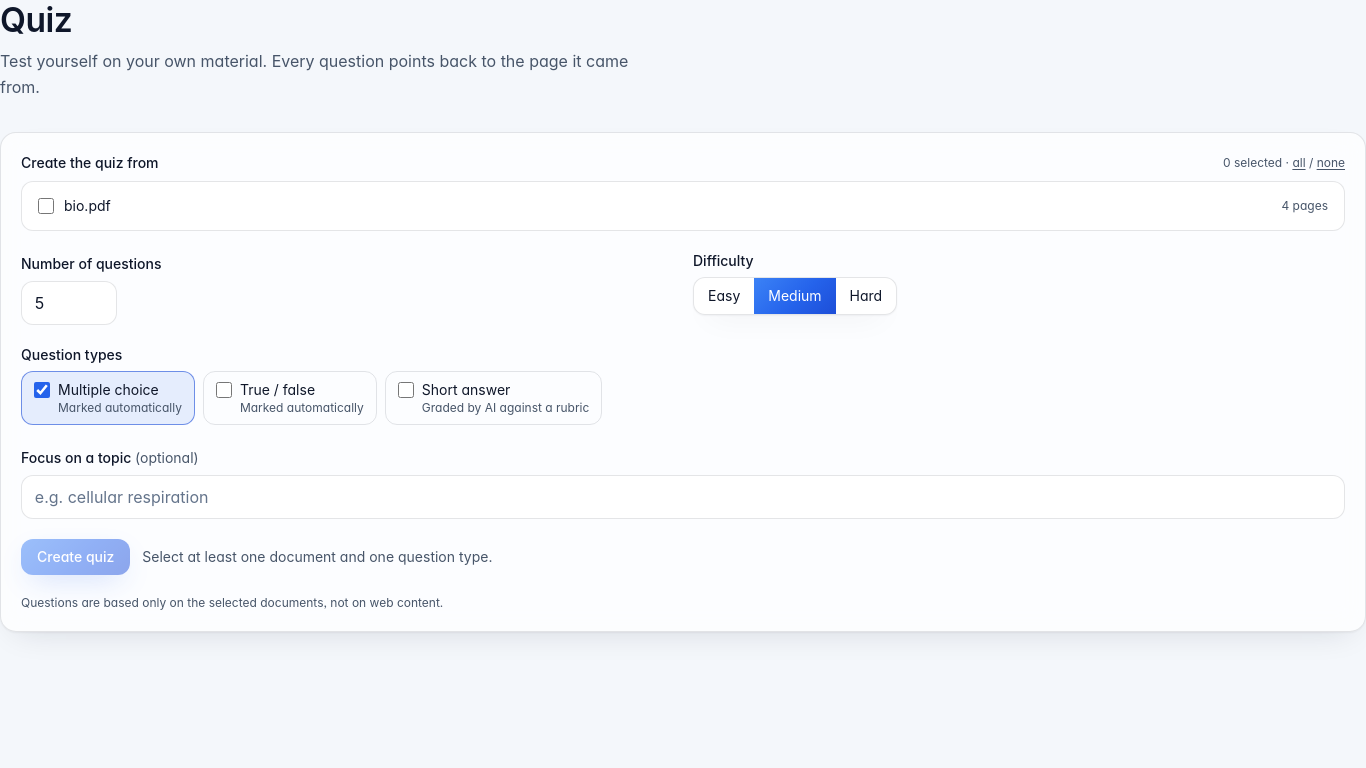
it: Quiz page flow › creates a quiz, takes it and shows the graded result
The image size is (1366, 768).
Expected: the button "Create quiz" is disabled, [21, 538, 130, 574]
Click the checkbox labelled "bio.pdf 4 pages": (46, 206) [38, 198, 54, 214]
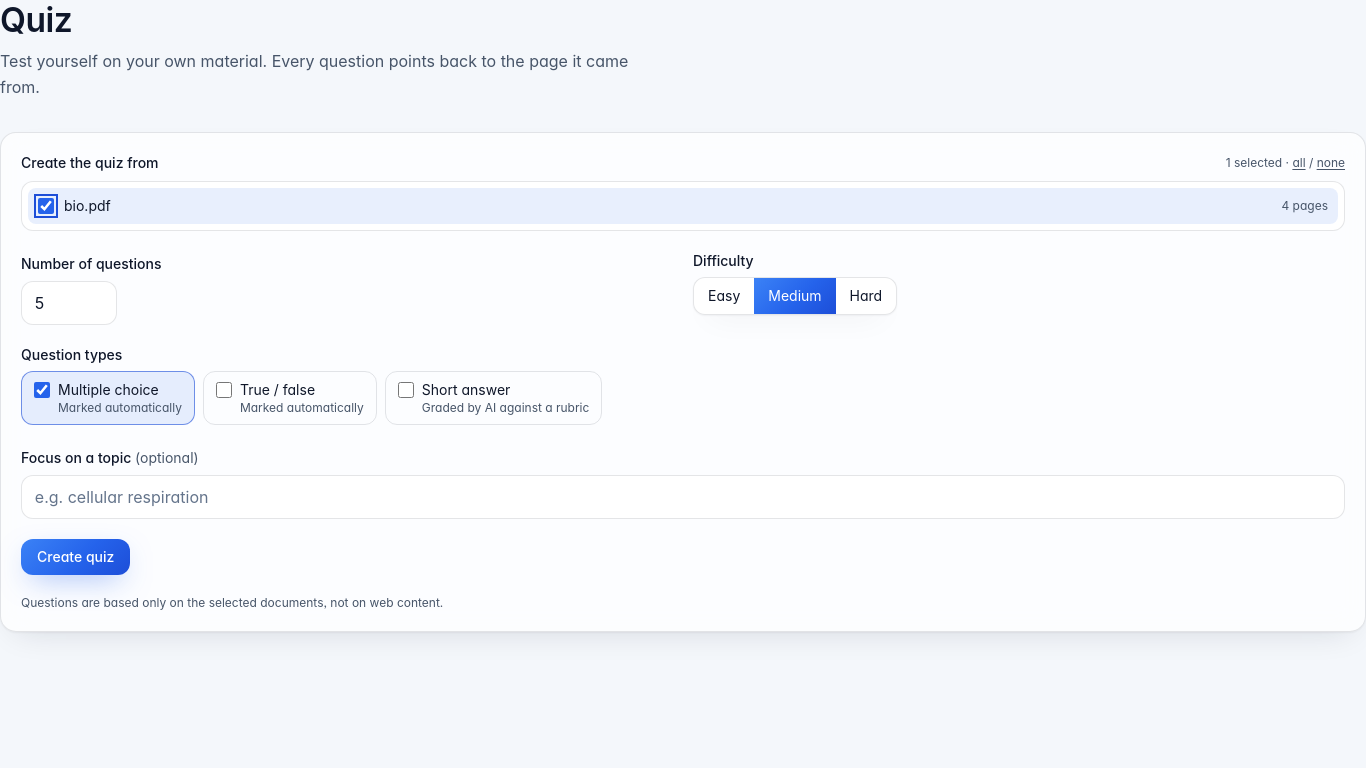
Click the checkbox labelled "True / false Marked automatically": (224, 390) [216, 382, 232, 398]
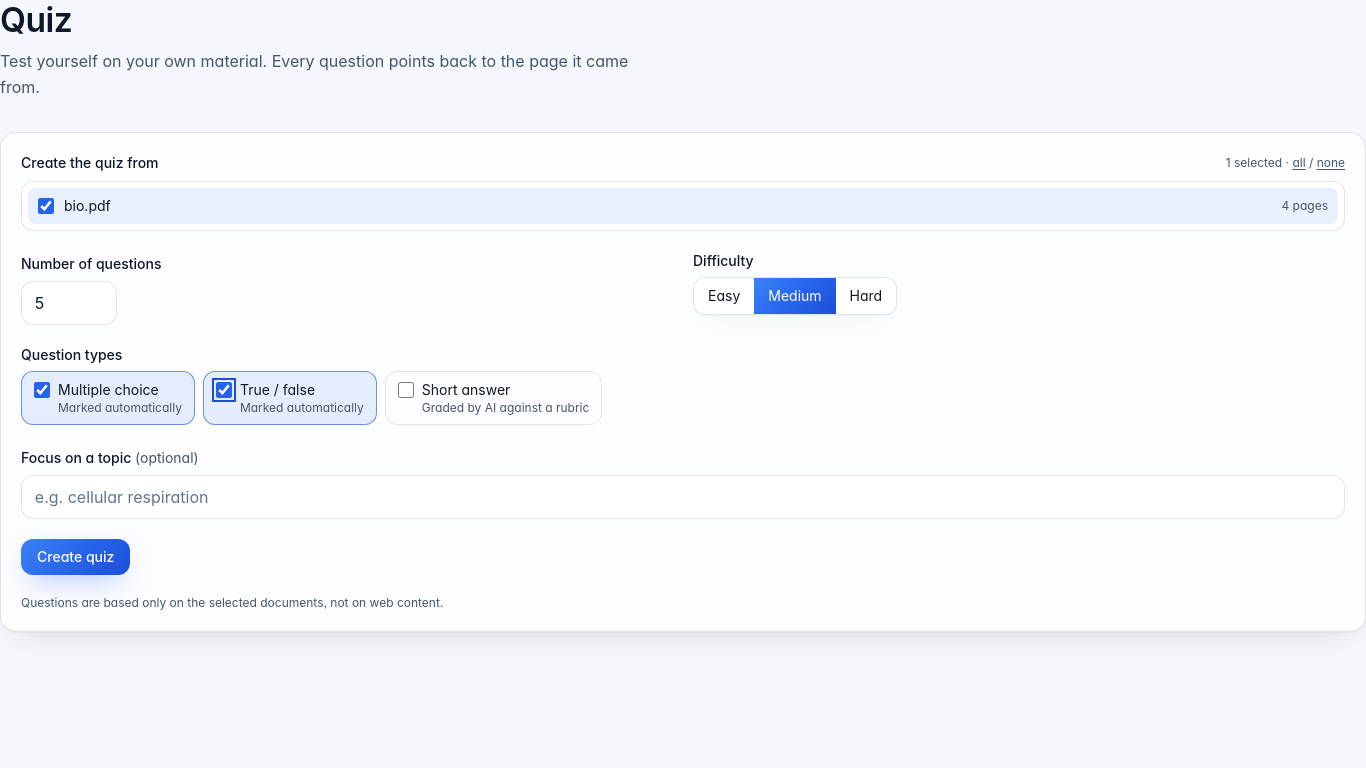
Click the radio button labelled "hard": (866, 296) [850, 287, 882, 304]
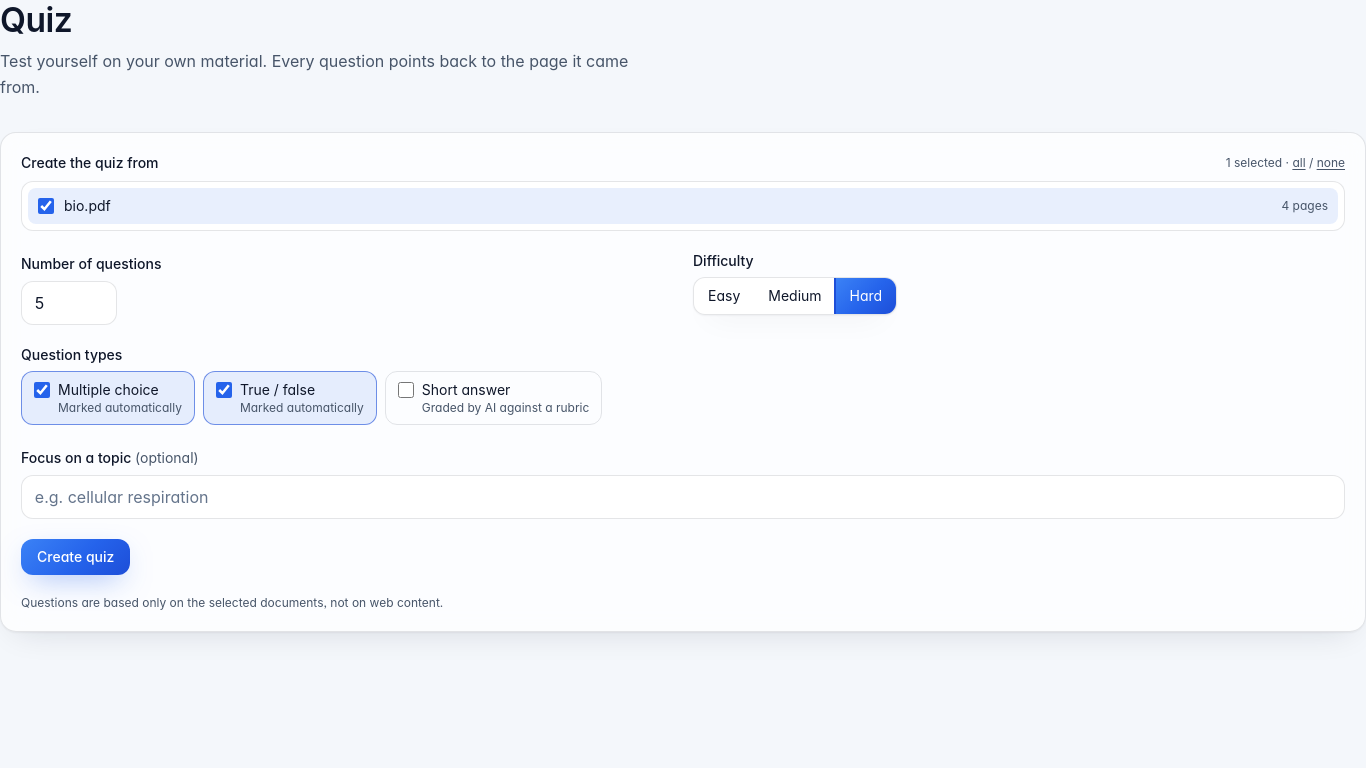
Click the button "Create quiz": (76, 556) [21, 538, 130, 574]
(page scrolled)
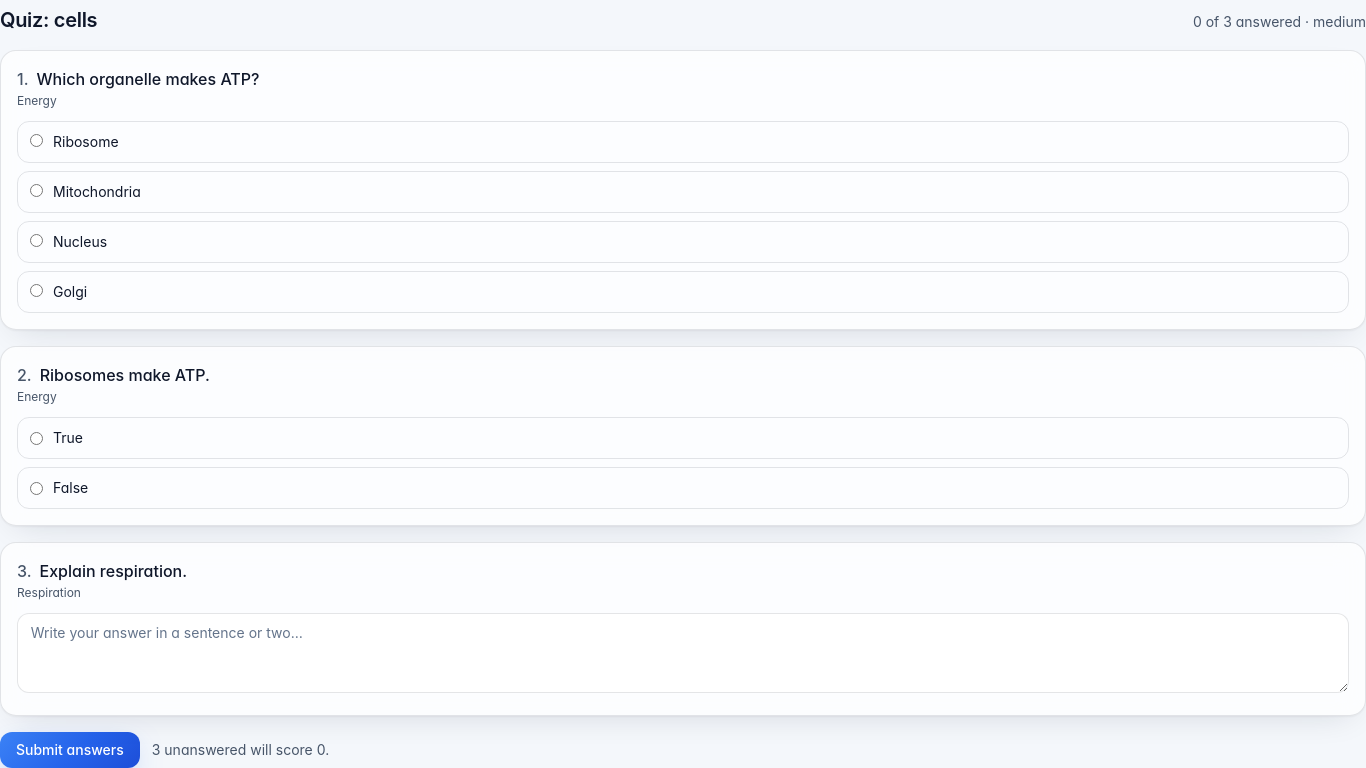
Click the button "Submit answers": (70, 750) [0, 732, 140, 767]
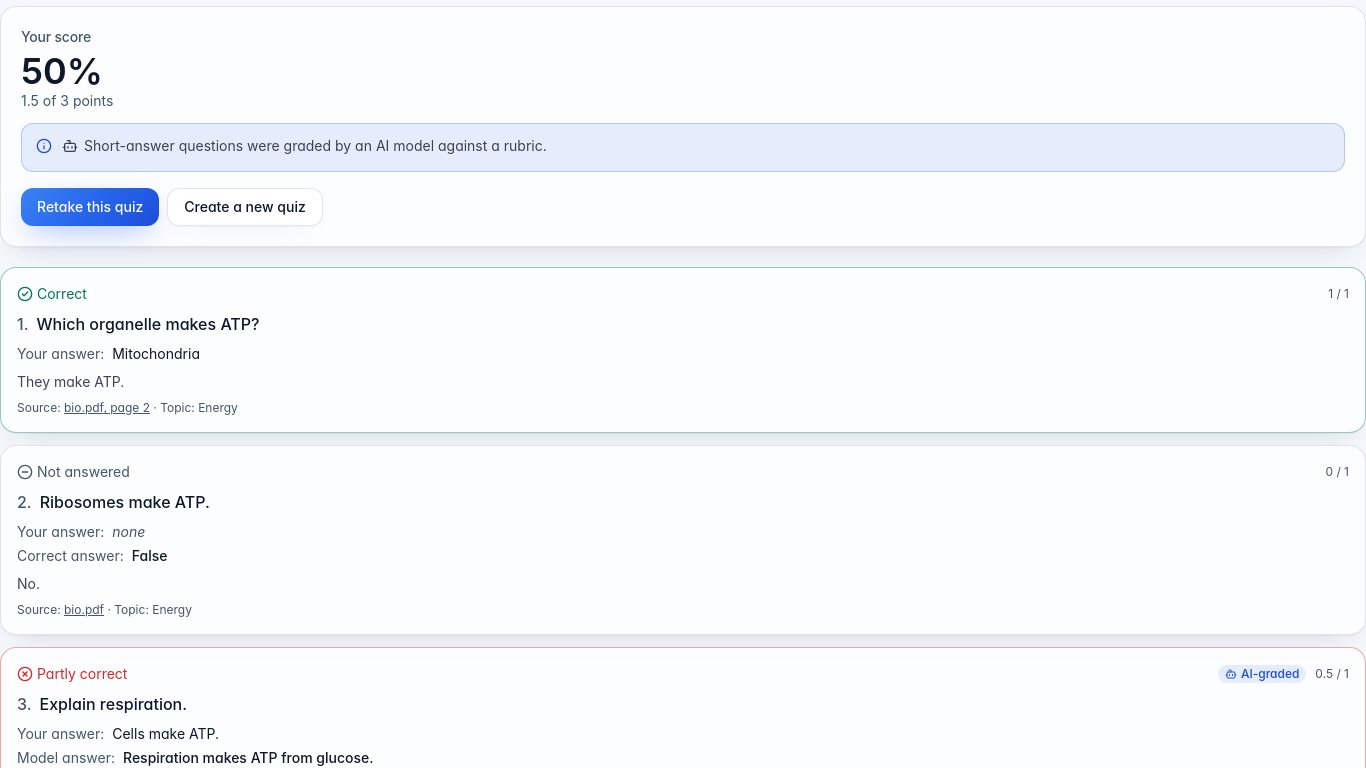
Expected: the text "50%" is shown, [21, 49, 103, 93]
Click the button "Retake this quiz": (90, 207) [21, 188, 159, 226]
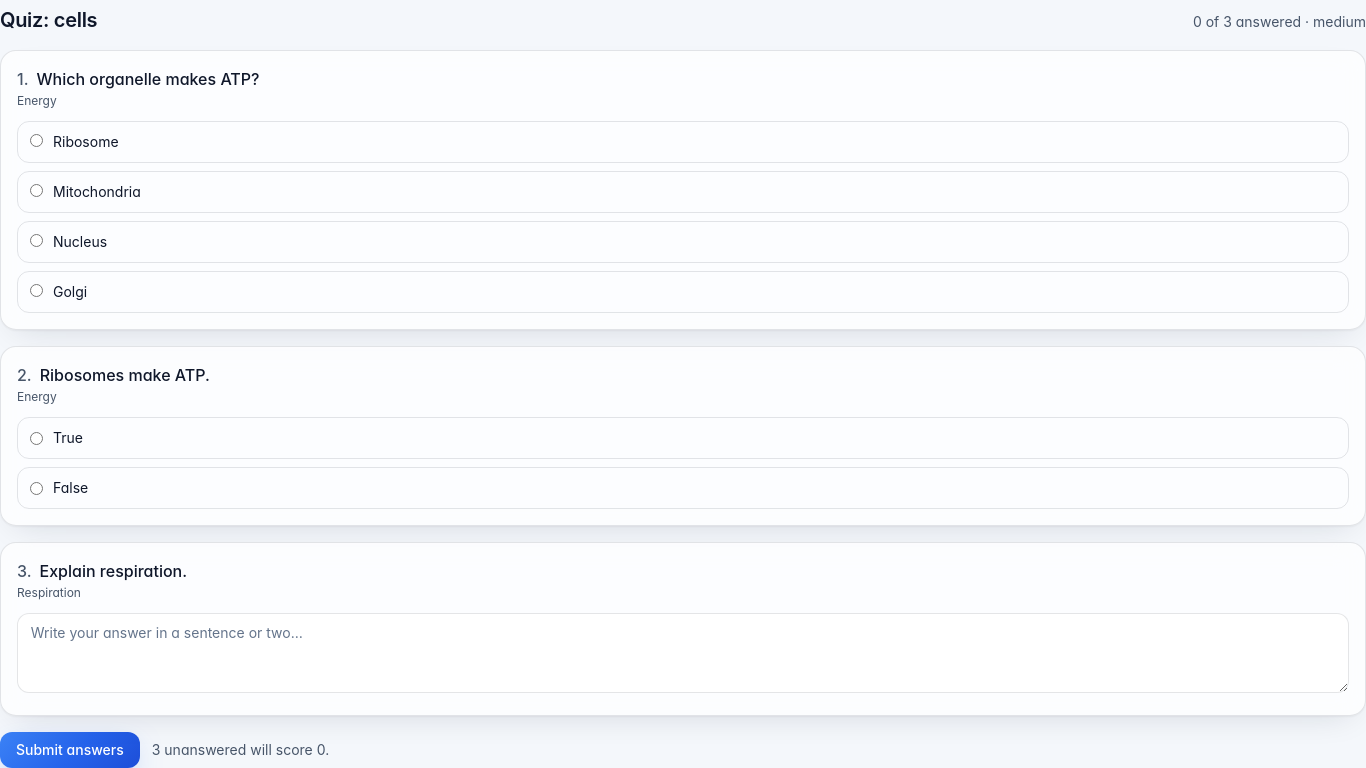
Expected: the text "0 of 3 answered · medium" is shown, [1193, 12, 1365, 32]
